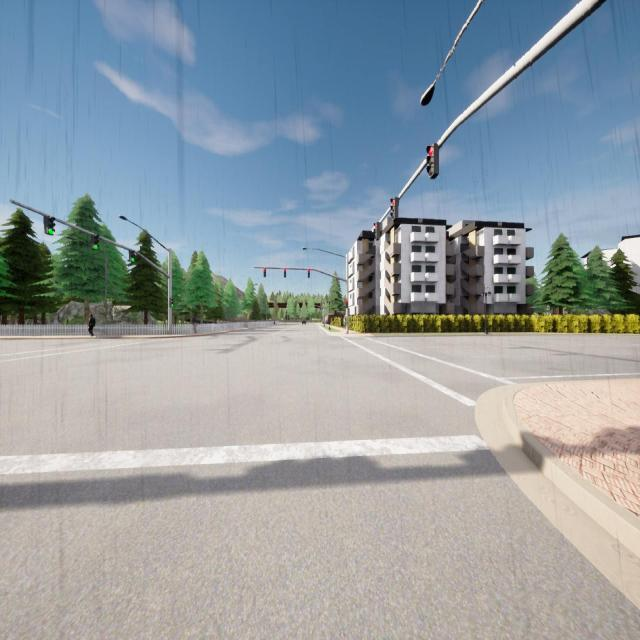Pedestrian: (88, 313, 96, 336), (192, 316, 198, 334)
Vehicle: (302, 320, 306, 324)
traffic_light: (426, 143, 439, 179), (44, 217, 55, 236), (390, 198, 399, 220), (92, 234, 100, 251), (373, 222, 380, 241), (129, 250, 135, 262), (169, 298, 174, 307), (263, 268, 266, 277), (346, 298, 348, 308), (308, 268, 310, 278), (284, 268, 286, 277)
